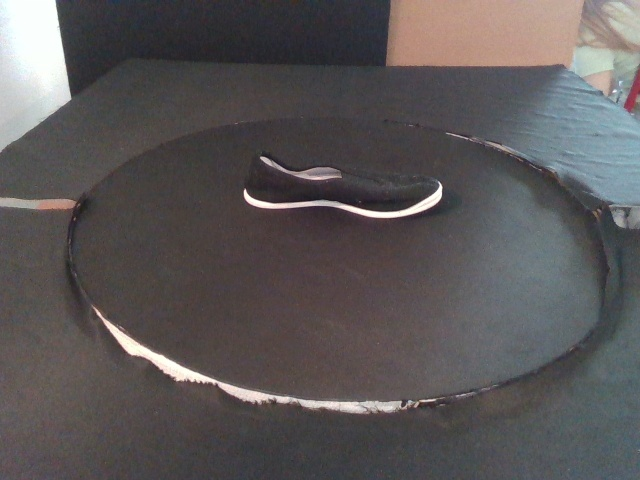shoe: (243, 152, 444, 220)
